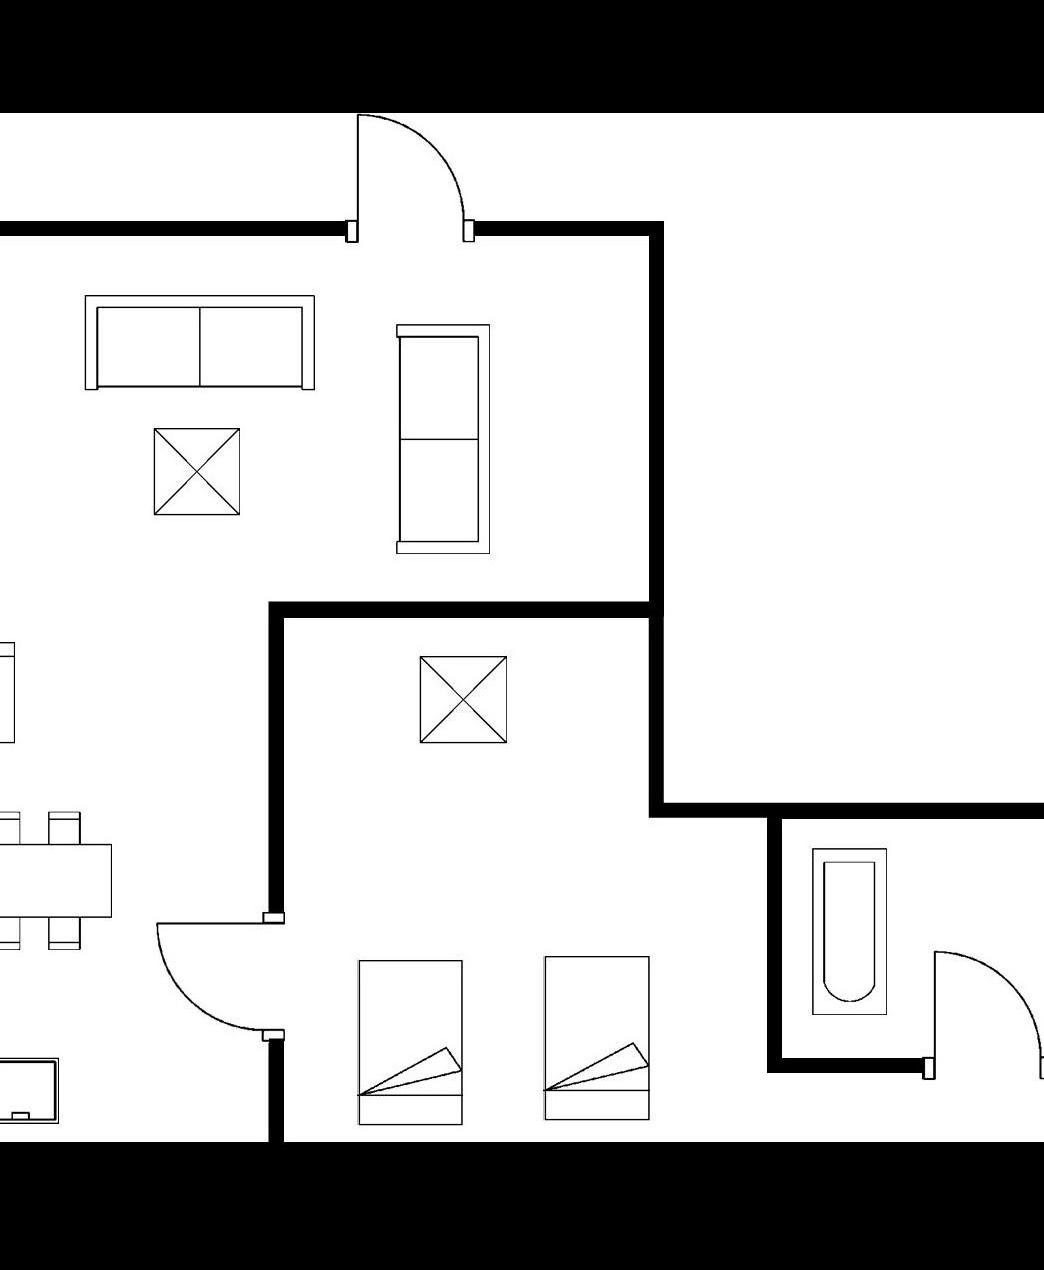bed: (533, 945, 657, 1125), (349, 956, 468, 1131)
dining_table: (0, 803, 119, 955)
sink: (0, 1048, 65, 1130)
sofa: (76, 284, 324, 396), (388, 317, 494, 561)
tub: (807, 842, 892, 1018)
